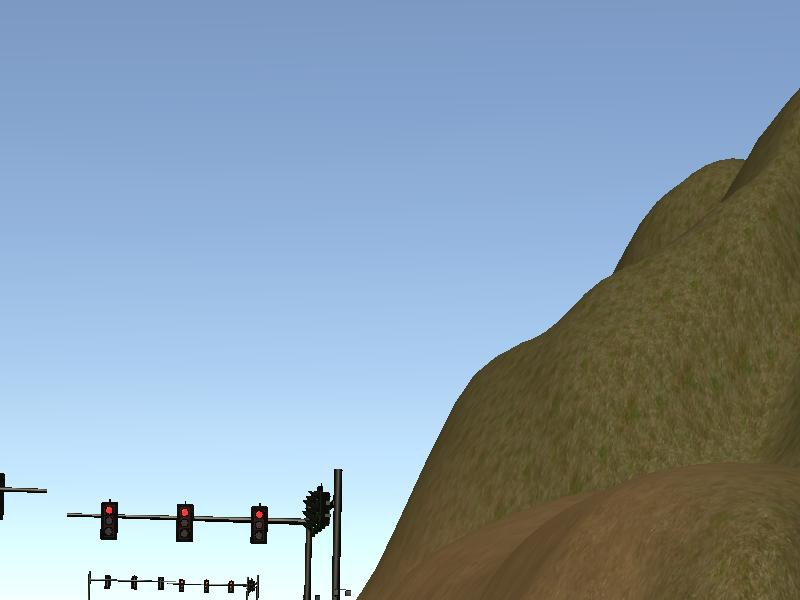red_light: (100, 503, 119, 541), (253, 506, 269, 543), (178, 503, 193, 540)
